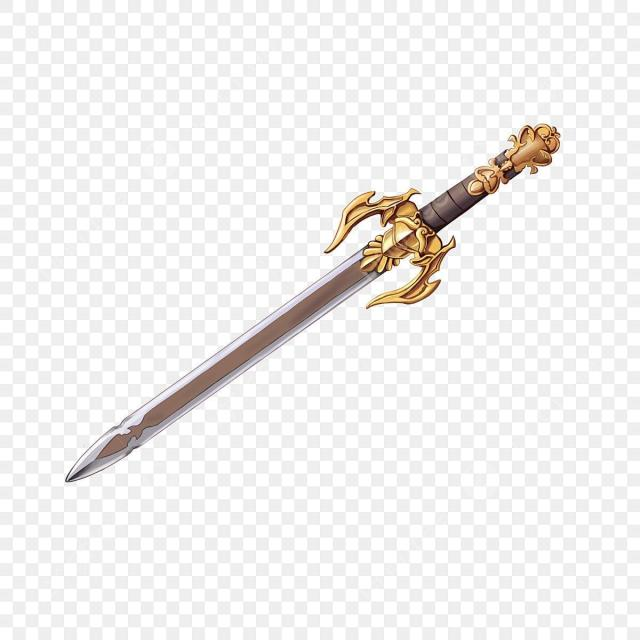weapon: (60, 115, 562, 487)
